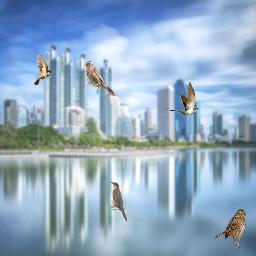Cuckoo: (169, 82, 199, 115), (111, 182, 127, 222)
Sparrow: (215, 209, 246, 249), (85, 61, 115, 96), (34, 53, 51, 85)
